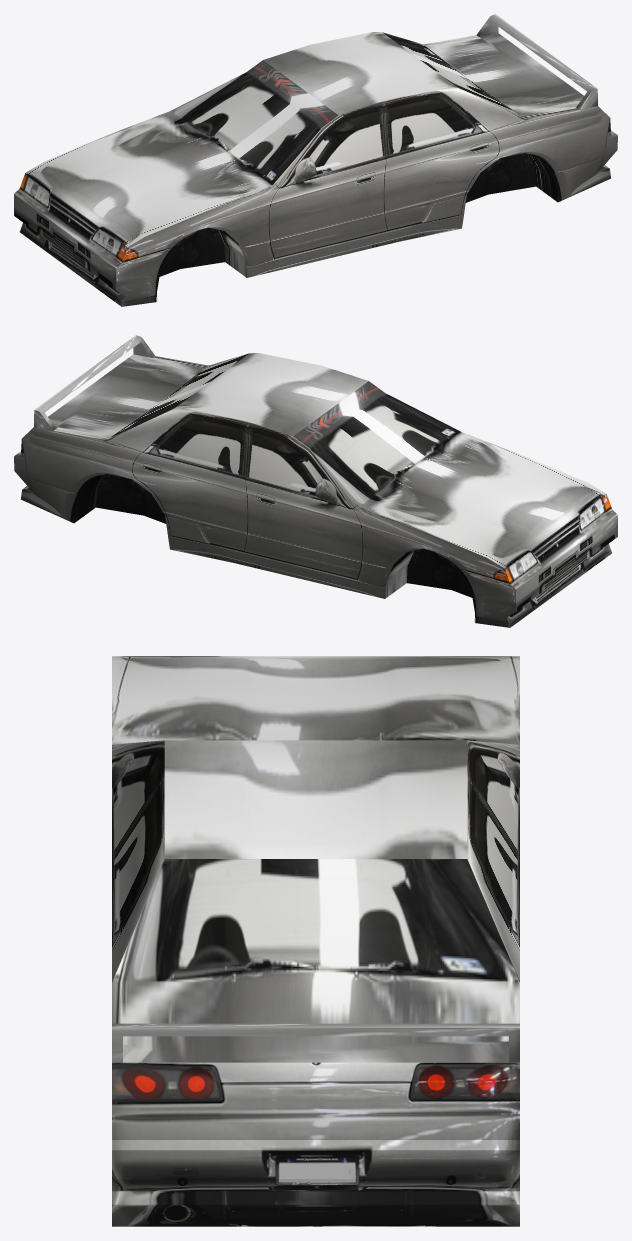
The model's file is Mesh_GTR_Body.fbx.
The picture shows the model from 3 angles, top to bottom: view 1: azimuth 30°, elevation 25°; view 2: azimuth 150°, elevation 25°; view 3: azimuth 270°, elevation 25°; orthographic projection. The views are drawn at different scales.
Visible parts, largest first — view 1: Body; view 2: Body; view 3: Body.
Part boxes in pixels (box(x1,y1,x2,y2)): Body: box(14, 14, 617, 306); Body: box(14, 335, 617, 627); Body: box(112, 656, 519, 1226).
Bounding box in the file's own units: 881 × 225 × 310.
1 material, 1 textured.
